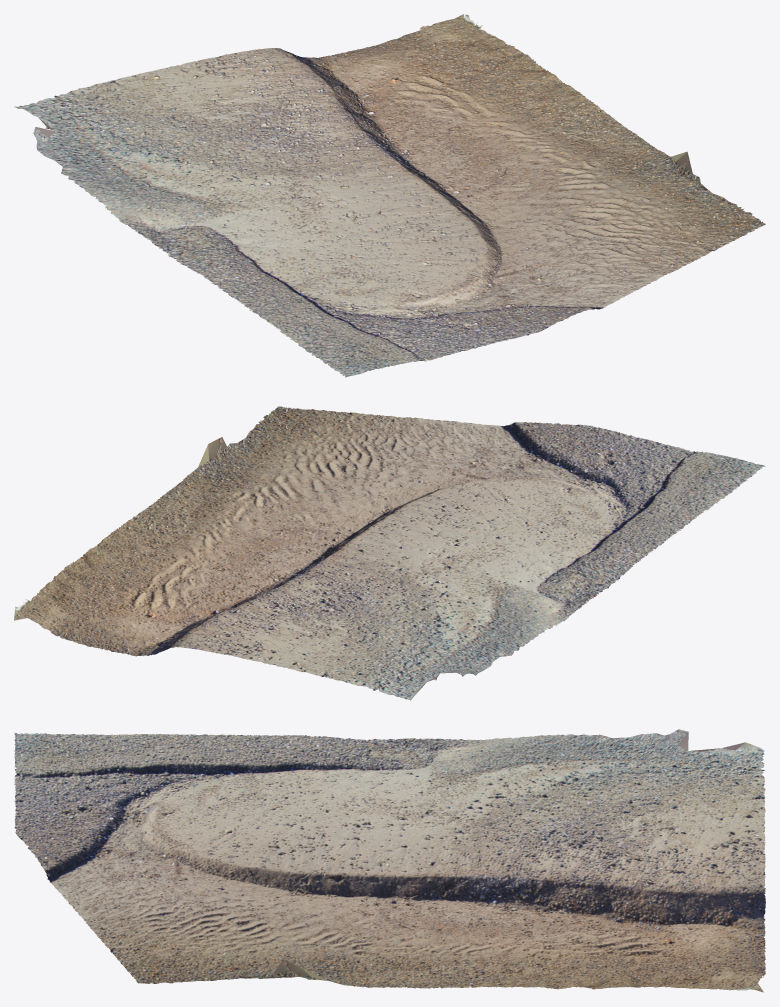
File: beach_smple.glb
3 renders of one model, top to bottom at view 1: azimuth 30°, elevation 25°; view 2: azimuth 150°, elevation 25°; view 3: azimuth 270°, elevation 25°, orthographic. The views are drawn at different scales.
Visible parts, largest first — view 1: Object_3, Object_2, Object_4; view 2: Object_2, Object_3, Object_4; view 3: Object_2, Object_3, Object_4.
Part boxes in pixels (x1,y1,x2,y2): Object_3: (61, 38, 738, 340); Object_2: (14, 14, 765, 290); Object_4: (70, 38, 741, 377); Object_2: (14, 406, 569, 700); Object_3: (45, 421, 662, 658); Object_4: (44, 420, 765, 651); Object_2: (68, 729, 765, 992); Object_3: (14, 734, 765, 989); Object_4: (14, 733, 687, 988).
Size of the model in its own units: 40.16 by 3.28 by 52.37.
1 material, 1 textured.
